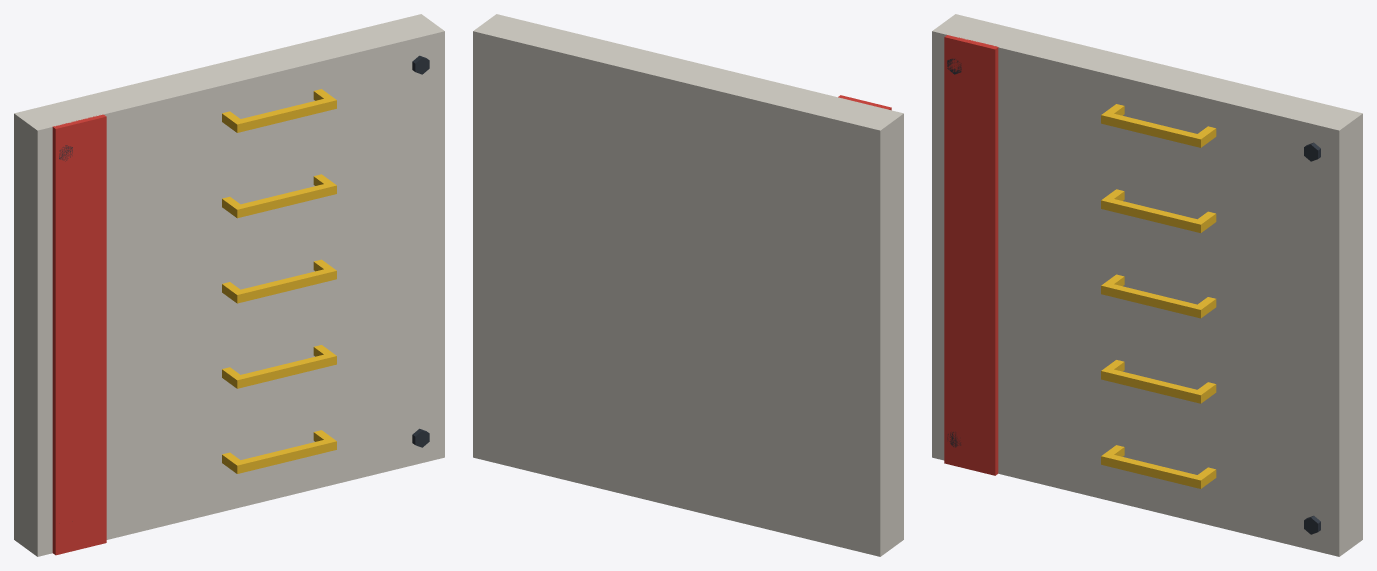
The model's file is robot_armor_plate_handholds.glb.
The picture shows the model from 3 angles, left to right: view 1: azimuth 30°, elevation 25°; view 2: azimuth 150°, elevation 25°; view 3: azimuth 330°, elevation 25°; orthographic projection.
Parts seen in each view (by area): view 1: robot_armor_plate_handholds_armor, robot_armor_plate_handholds_red, robot_armor_plate_handholds_yellow, robot_armor_plate_handholds_steelDark; view 2: robot_armor_plate_handholds_armor; view 3: robot_armor_plate_handholds_armor, robot_armor_plate_handholds_red, robot_armor_plate_handholds_yellow, robot_armor_plate_handholds_steelDark.
Boxes of the visible parts, x1=… form: robot_armor_plate_handholds_armor: x1=14, y1=14, x2=444, y2=556; robot_armor_plate_handholds_red: x1=52, y1=114, x2=106, y2=555; robot_armor_plate_handholds_yellow: x1=222, y1=89, x2=336, y2=473; robot_armor_plate_handholds_steelDark: x1=59, y1=55, x2=429, y2=447; robot_armor_plate_handholds_armor: x1=473, y1=14, x2=903, y2=556; robot_armor_plate_handholds_armor: x1=932, y1=14, x2=1362, y2=556; robot_armor_plate_handholds_red: x1=944, y1=35, x2=998, y2=475; robot_armor_plate_handholds_yellow: x1=1101, y1=104, x2=1216, y2=488; robot_armor_plate_handholds_steelDark: x1=947, y1=58, x2=1320, y2=534.
Bounding box in the file's own units: 4 × 4 × 0.66.
